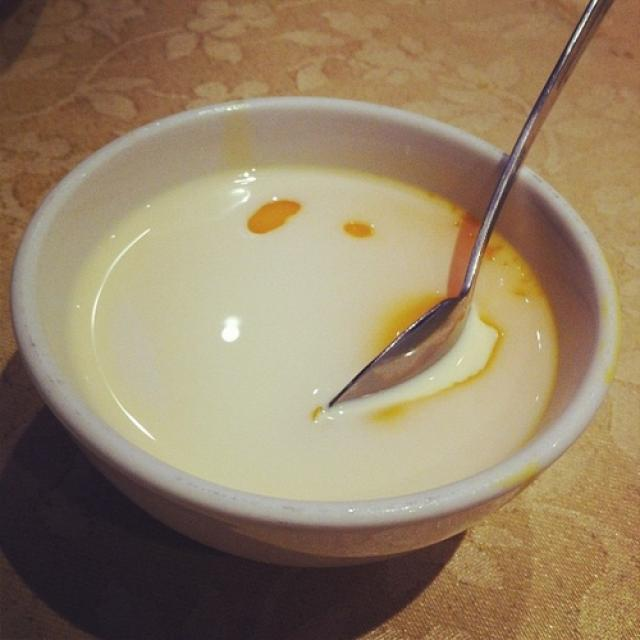蛋糕甜品: (8, 48, 620, 570)
